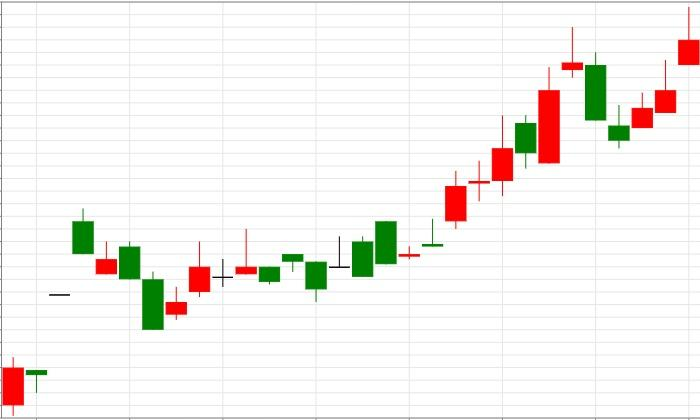evening_star_fall: (445, 28, 606, 229)
